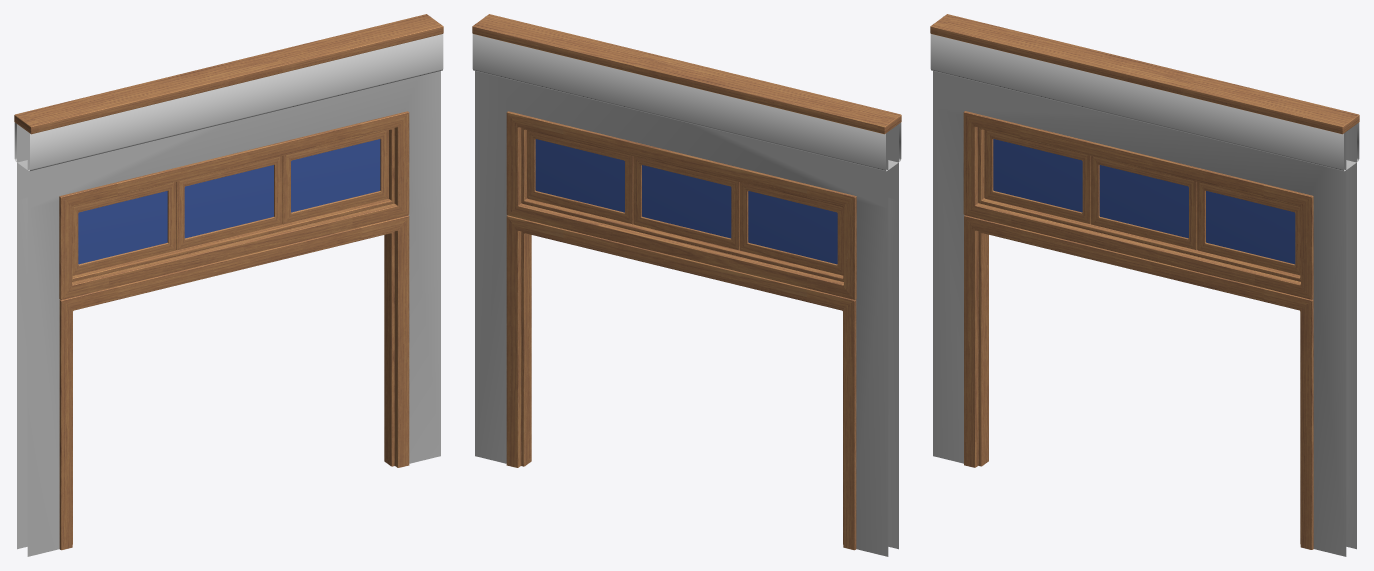
The model's file is SM_wall_door_03.fbx.
3 views of the same model, side by side, from view 1: azimuth 30°, elevation 25°; view 2: azimuth 150°, elevation 25°; view 3: azimuth 330°, elevation 25° (orthographic).
Visible parts, largest first — view 1: Wall_door_class009; view 2: Wall_door_class009; view 3: Wall_door_class009.
Part boxes in pixels (x1,y1,x2,y2): Wall_door_class009: (14,14,443,556); Wall_door_class009: (472,14,901,556); Wall_door_class009: (930,14,1359,556).
Size of the model in its own units: 157 by 158 by 11.32.
